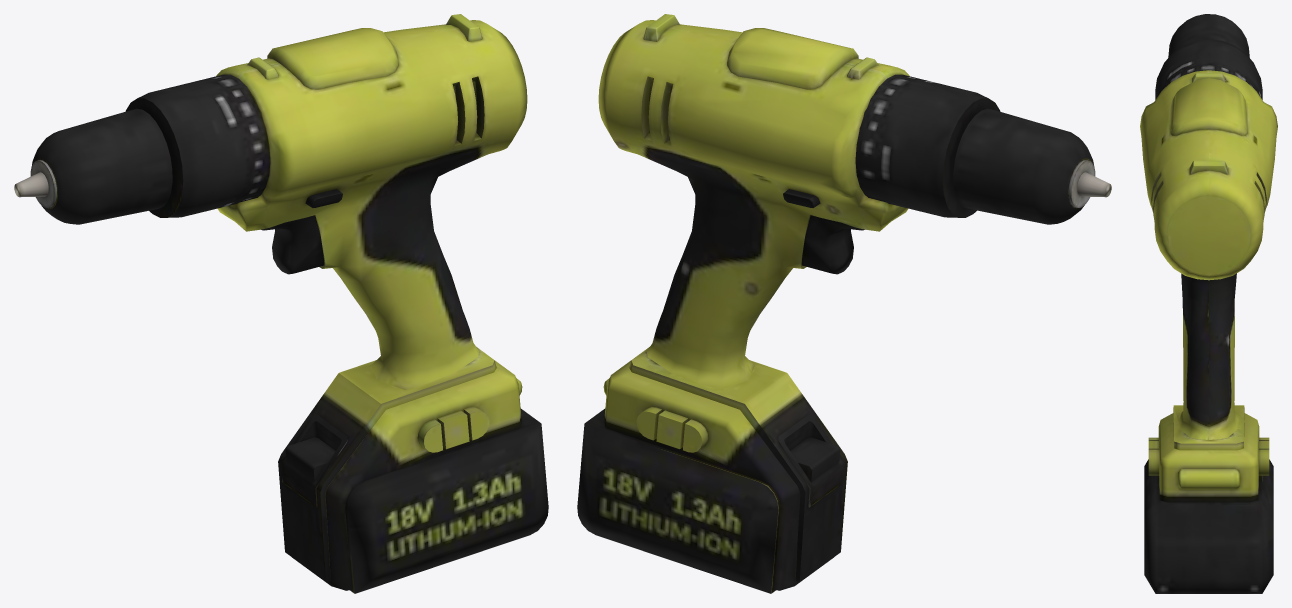
Rendered from Drill_01.glb.
The picture shows the model from 3 angles, left to right: view 1: azimuth 30°, elevation 25°; view 2: azimuth 150°, elevation 25°; view 3: azimuth 270°, elevation 25°; orthographic projection. The views are drawn at different scales.
Parts seen in each view (by area): view 1: Drill_01; view 2: Drill_01; view 3: Drill_01.
Boxes of the visible parts, box(x1,y1,x2,y2) form: Drill_01: box(14, 14, 548, 593); Drill_01: box(577, 14, 1111, 593); Drill_01: box(1140, 14, 1277, 593).
Bounding box in the file's own units: 0.1829 × 0.1851 × 0.0524.
Materials: 1 (1 with a texture image).
